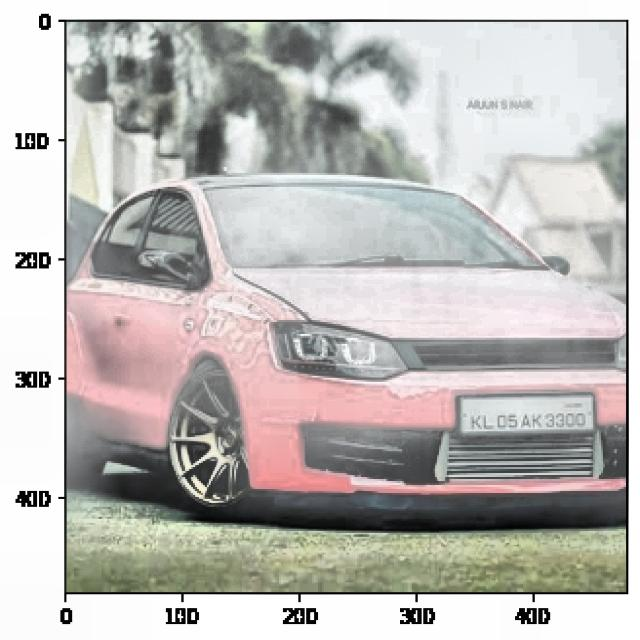license_plate: (463, 398, 593, 438)
